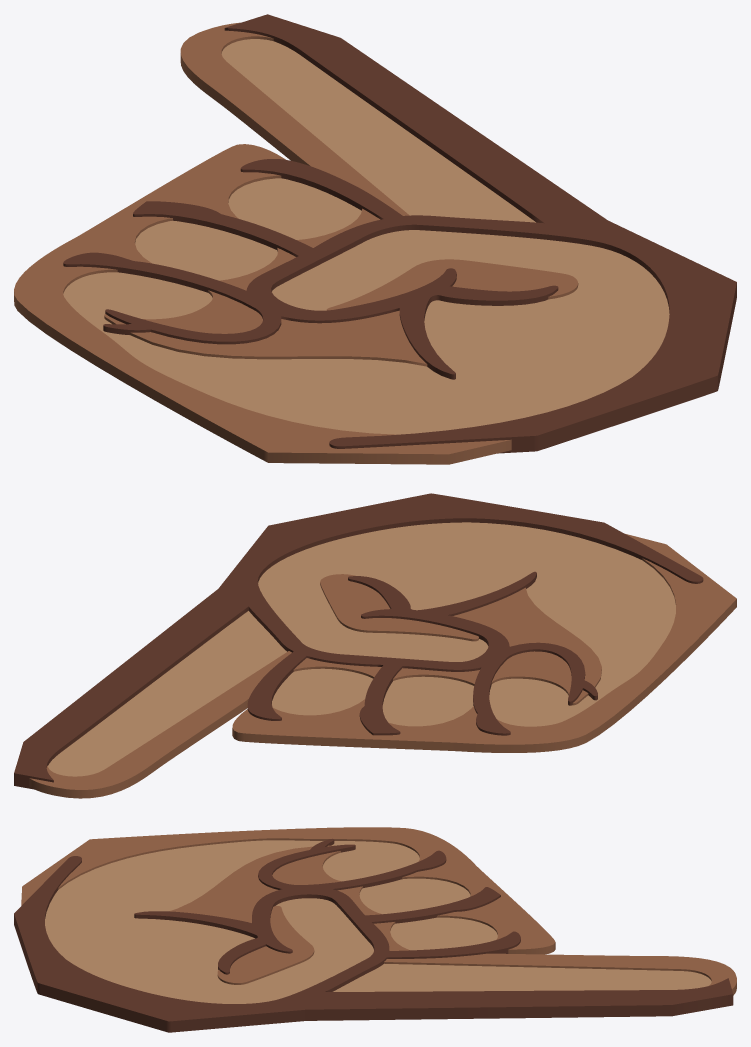
The model's file is emoji_u261d_1f3fd.glb.
3 views of the same model, one above another, from view 1: azimuth 30°, elevation 25°; view 2: azimuth 150°, elevation 25°; view 3: azimuth 270°, elevation 25° (orthographic). The views are drawn at different scales.
Parts seen in each view (by area): view 1: emoji_u261d_1f3fd; view 2: emoji_u261d_1f3fd; view 3: emoji_u261d_1f3fd.
Part boxes in pixels (x1,y1,x2,y2): emoji_u261d_1f3fd: (14,14,736,464); emoji_u261d_1f3fd: (14,493,736,798); emoji_u261d_1f3fd: (14,827,736,1032).
Size of the model in its own units: 0.0224 by 0.0006 by 0.035.
